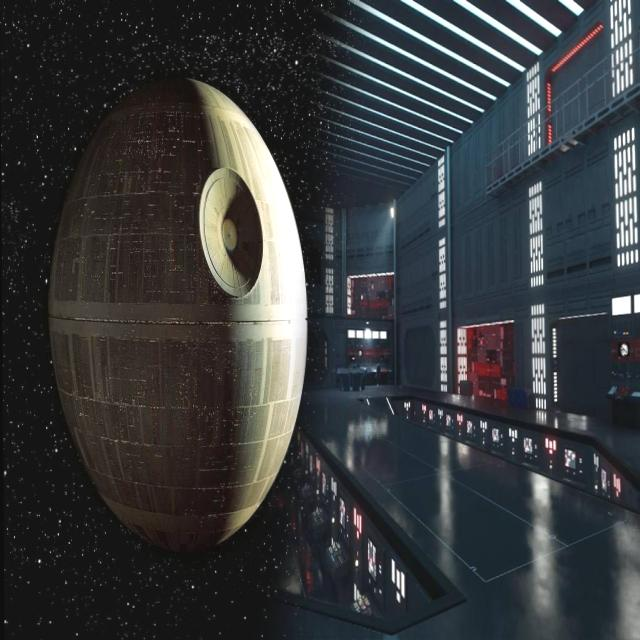deathStar: (43, 77, 312, 571)
